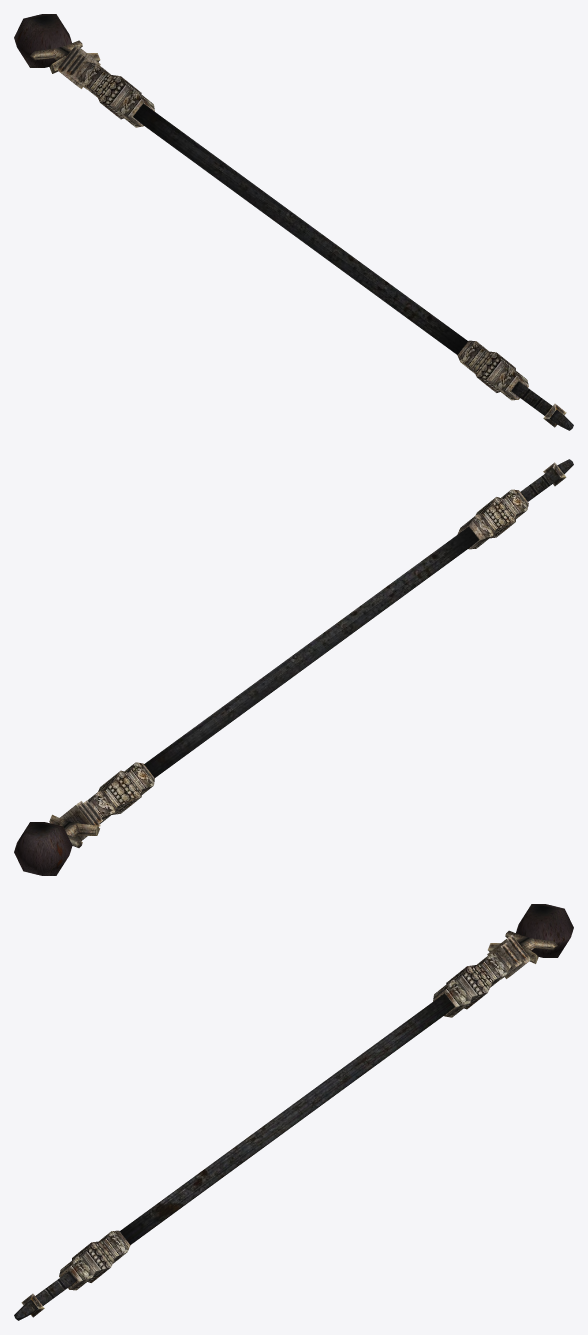
Rendered from wand_nope_rod_nope_rod_1.glb.
3 renders of one model, top to bottom at view 1: azimuth 30°, elevation 25°; view 2: azimuth 150°, elevation 25°; view 3: azimuth 330°, elevation 25°, orthographic.
Size of the model in its own units: 0.1011 by 0.0874 by 1.81.
Materials: 1 (1 with a texture image).
